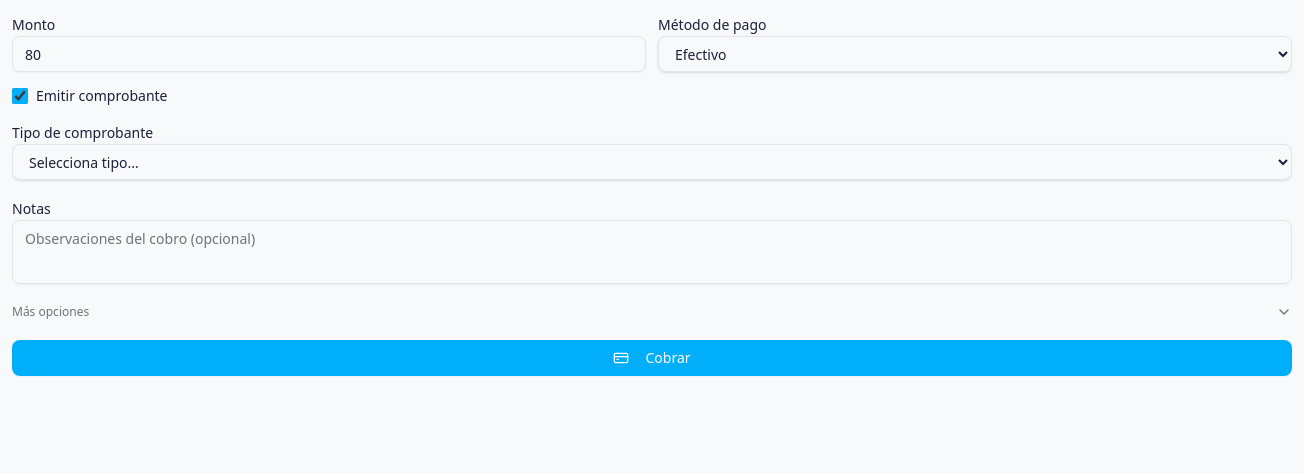
Test: CobrarSaldoSubform › A8: currency override field appears when 'Más opciones' is expanded
The image size is (1304, 473).
Step 1. Click the button "Más opciones" → [51, 312], box [12,300,1292,324]
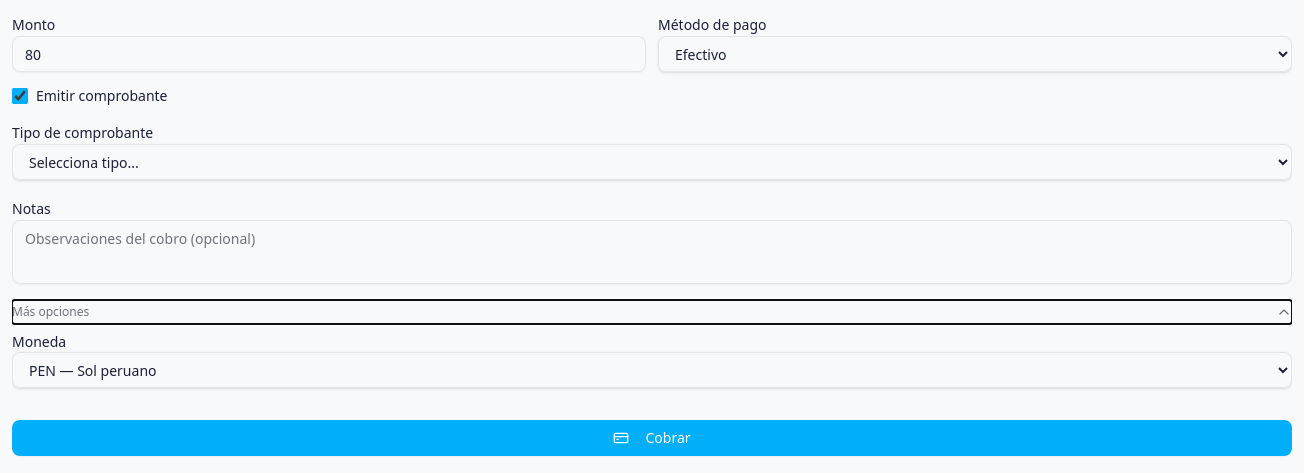
Expected: the text "Moneda" is shown, [12,332,66,351]
